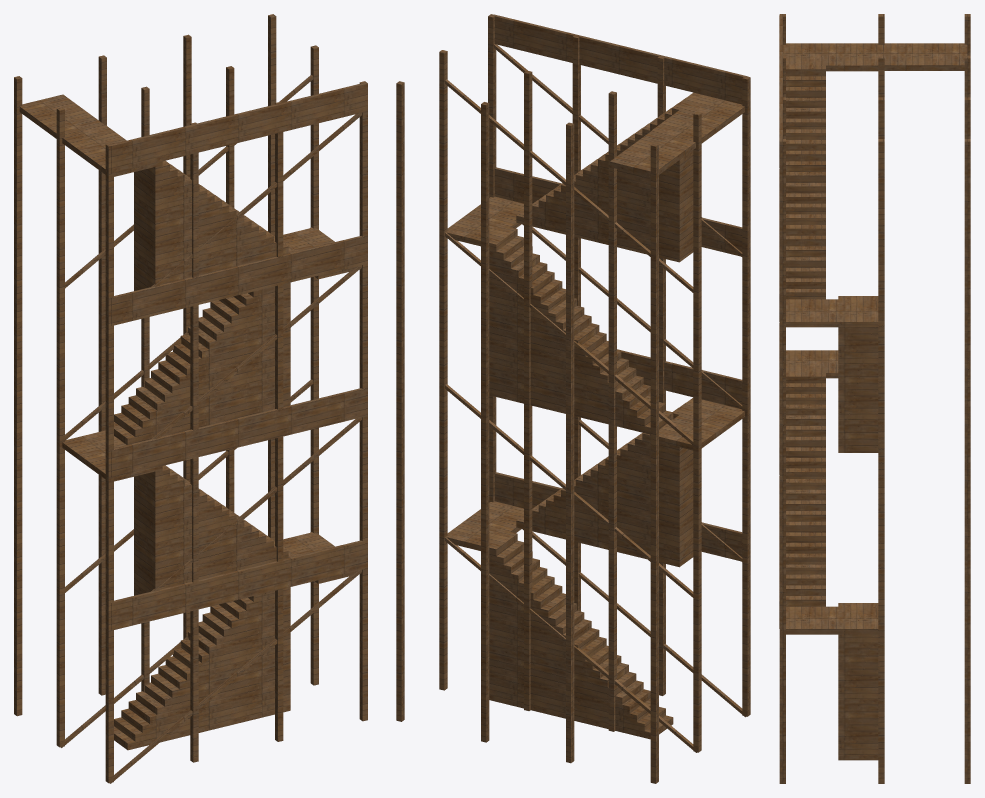
Rendered from fort-scaffold.fort-v1.lod0.glb.
The picture shows the model from 3 angles, left to right: view 1: azimuth 30°, elevation 25°; view 2: azimuth 150°, elevation 25°; view 3: azimuth 270°, elevation 25°; orthographic projection.
Parts seen in each view (by area): view 1: fort-scaffold; view 2: fort-scaffold; view 3: fort-scaffold.
Boxes of the visible parts, left/top/right/bottom form: fort-scaffold: left=14, top=14, right=367, bottom=783; fort-scaffold: left=396, top=14, right=750, bottom=783; fort-scaffold: left=779, top=14, right=970, bottom=783.
Size of the model in its own units: 9.8 by 23.06 by 6.22.
1 material, 1 textured.
